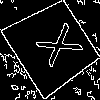X: (26, 22, 83, 75)
